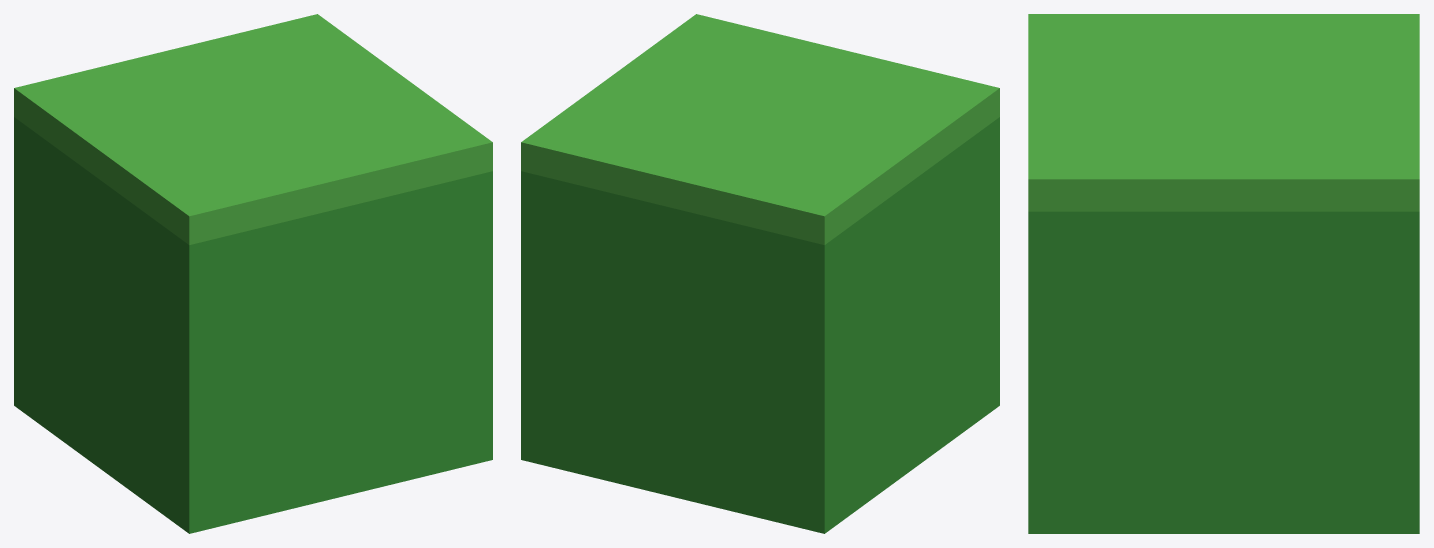
File: deco_bush_single.glb
3 renders of one model, left to right at view 1: azimuth 30°, elevation 25°; view 2: azimuth 150°, elevation 25°; view 3: azimuth 270°, elevation 25°, orthographic. The views are drawn at different scales.
Parts seen in each view (by area): view 1: model_0; view 2: model_0; view 3: model_0.
Boxes of the visible parts, x1,y1,x2,y2 form: model_0: [14, 14, 492, 533]; model_0: [521, 14, 999, 533]; model_0: [1028, 14, 1419, 533].
Size of the model in its own units: 0.44 by 0.44 by 0.44.
